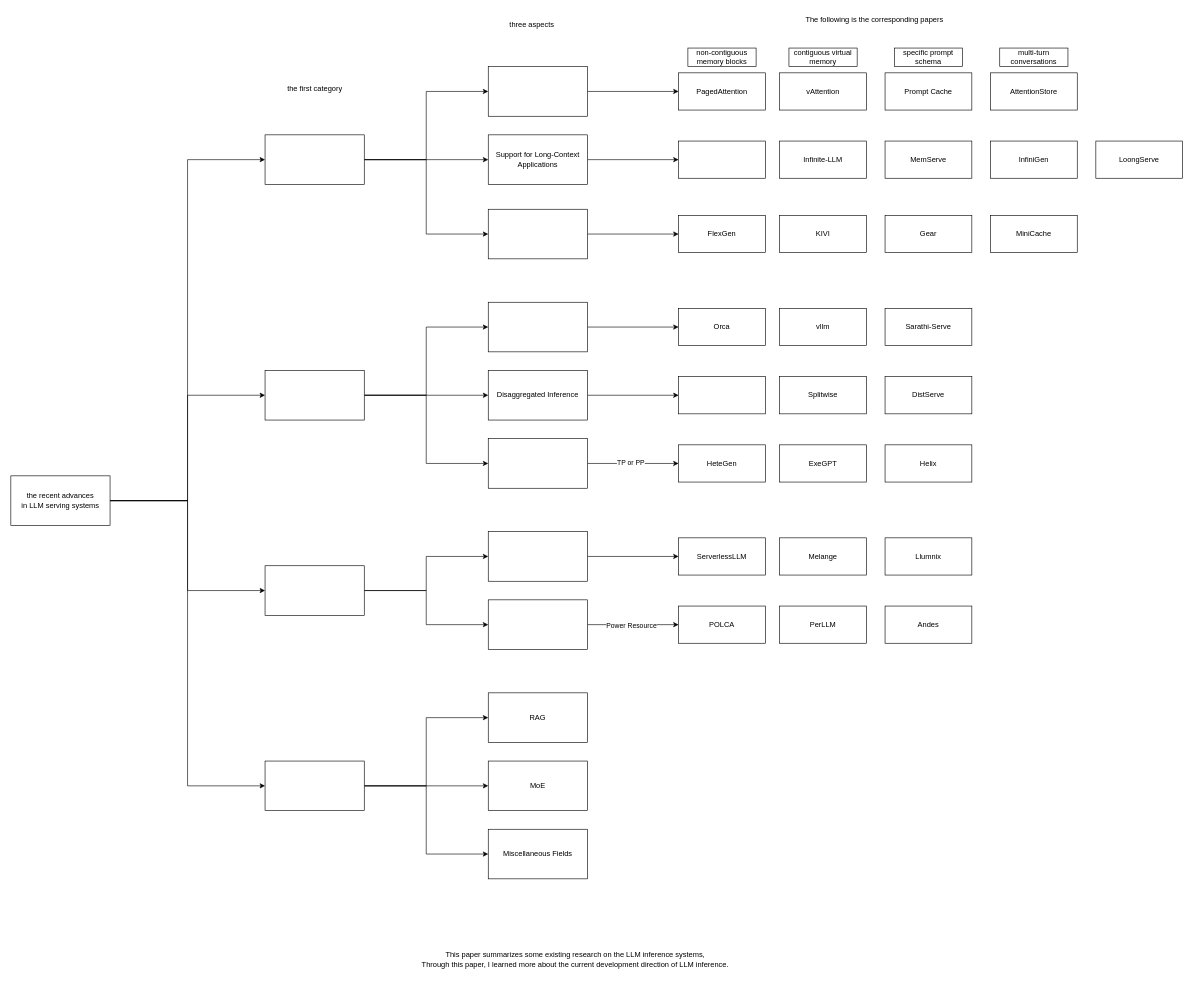
Image size: 1194x982. Some labels were removed from this diagram. The shapes that lost their labels are listed below. From the top down, each one's centre as x and y in pixels, then its label:
At point (537, 91): "Efficient Management of KV Cache".
At point (314, 159): "memory management and caching".
At point (721, 159): "Ring attention".
At point (537, 234): "Compression of KV Cache".
At point (537, 327): "Request Batching".
At point (314, 395): "Computation Task Scheduling".
At point (721, 395): "Tetriinfer".
At point (537, 463): "Model Parallelism".
At point (537, 556): "Cloud Deployment Cost".
At point (314, 590): "LLMs In Cloud".
At point (537, 624): "Cloud Efficiency".
At point (314, 785): "Emerging Research Fields".
